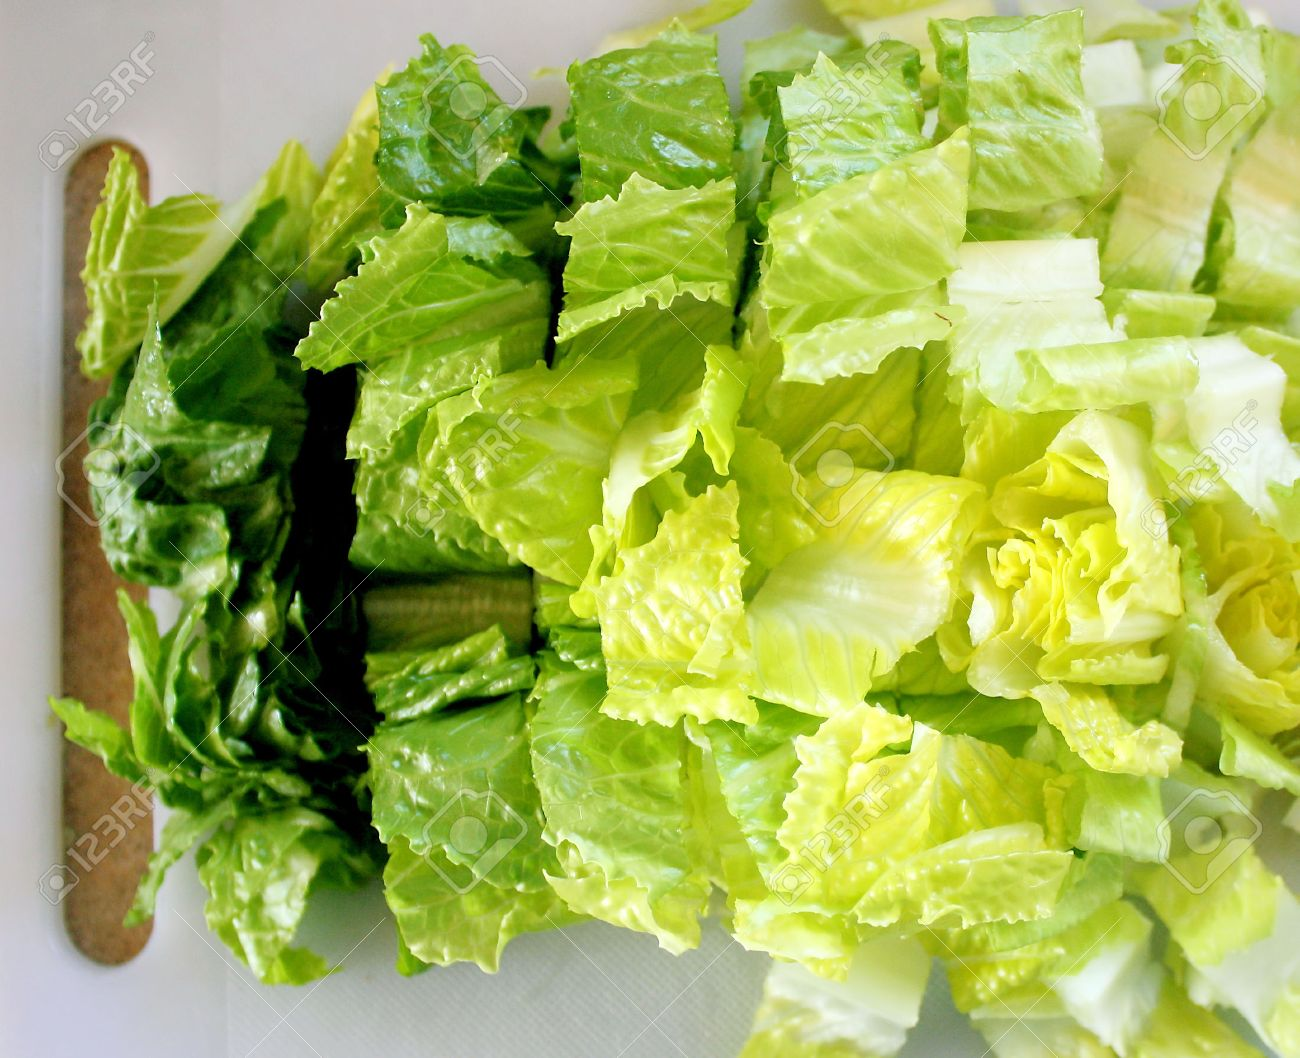chopped lettuce: (110, 41, 1300, 978)
